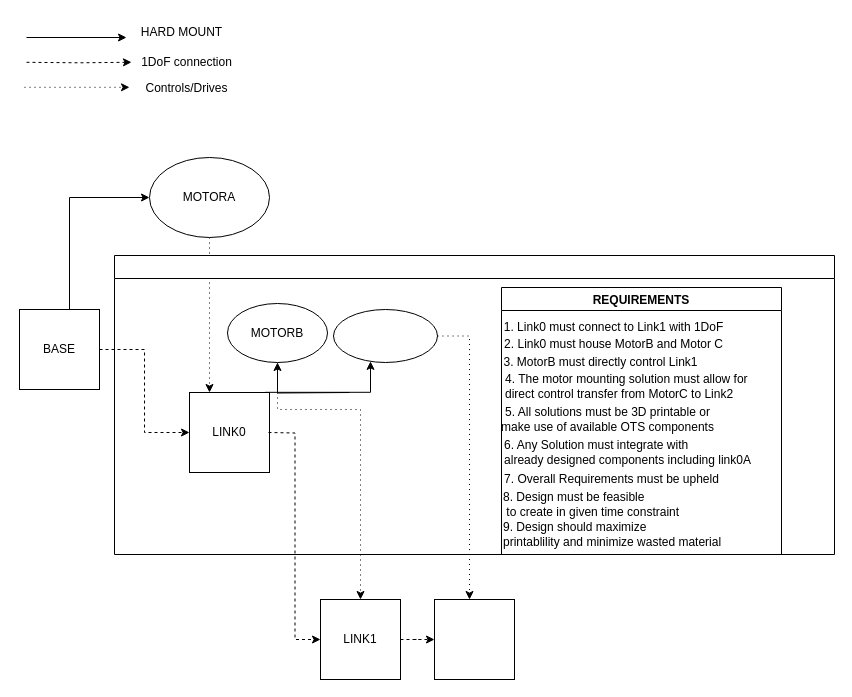
Some shapes in this 852 by 697 pixel diagram are drawn without their labels. Each missing label, with the box of its shape:
CURRENT SPRINT: (114, 254, 834, 554)
LINK2: (434, 598, 514, 680)
MOTORC: (332, 308, 438, 362)
